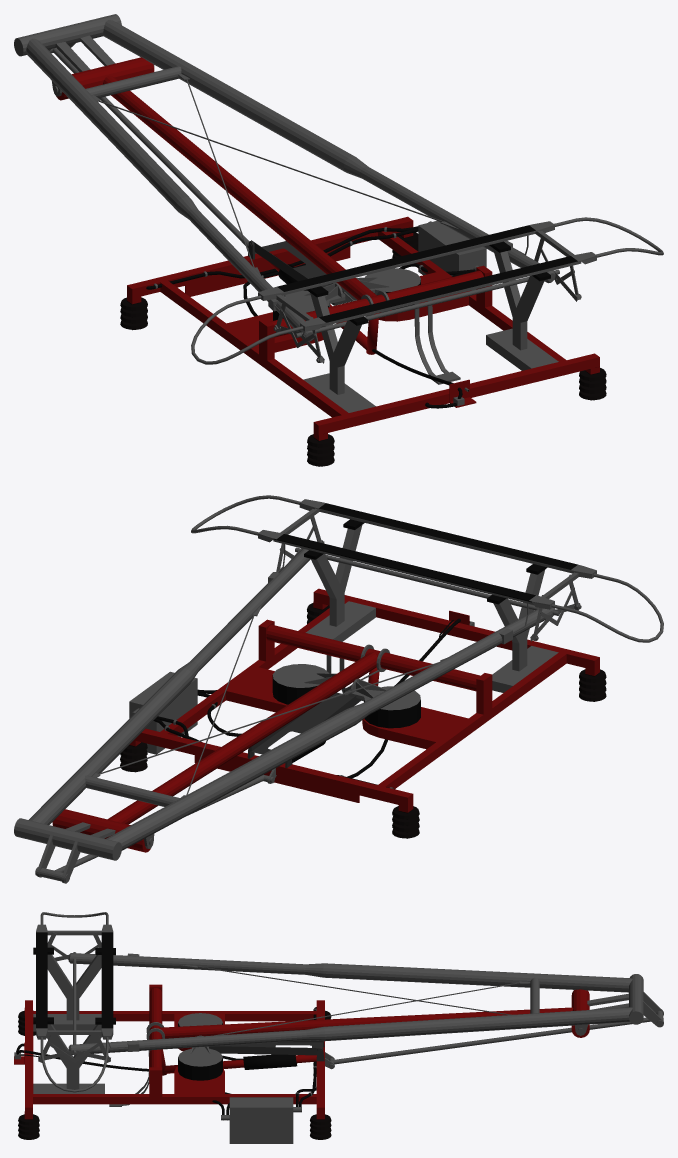
File: TSG18.obj
3 views of the same model, one above another, from view 1: azimuth 30°, elevation 25°; view 2: azimuth 150°, elevation 25°; view 3: azimuth 270°, elevation 25° (orthographic). The views are drawn at different scales.
Parts seen in each view (by area): view 1: 支臂2.001, new_Cube, 立方体.015, 碳滑板, 支臂2, 支撑, 柱体.006, 立方体.007, 弓头, 支臂2.002, 支臂2.003, 支臂1 (+8 smaller); view 2: 支臂2.001, new_Cube, 立方体.015, 碳滑板, 支臂2, 支撑, 柱体.006, 支臂1, 立方体, 立方体.007, 弓头, 支臂2.003 (+4 smaller); view 3: 支臂2.001, new_Cube, 立方体.015, 支臂2, 立方体.007, 碳滑板, 支撑, 柱体.006, 支臂2.002, 立方体, 柱体.002, 支臂1 (+5 smaller).
Part boxes in pixels (left/top/right/bottom): 支臂2.001: left=14, top=14, right=555, bottom=341; new_Cube: left=127, top=216, right=599, bottom=434; 立方体.015: left=303, top=241, right=558, bottom=412; 碳滑板: left=258, top=221, right=596, bottom=331; 支臂2: left=103, top=75, right=376, bottom=299; 支撑: left=273, top=231, right=581, bottom=363; 柱体.006: left=273, top=268, right=420, bottom=320; 立方体.007: left=418, top=221, right=486, bottom=290; 弓头: left=191, top=217, right=663, bottom=364; 支臂2.002: left=52, top=47, right=256, bottom=253; 支臂2.003: left=52, top=57, right=154, bottom=100; 支臂1: left=270, top=270, right=483, bottom=337; 支臂2.001: left=14, top=548, right=555, bottom=883; new_Cube: left=134, top=588, right=599, bottom=806; 立方体.015: left=304, top=519, right=558, bottom=692; 碳滑板: left=258, top=499, right=596, bottom=609; 支臂2: left=107, top=652, right=377, bottom=824; 支撑: left=273, top=508, right=581, bottom=641; 柱体.006: left=272, top=664, right=420, bottom=728; 支臂1: left=266, top=624, right=480, bottom=691; 立方体: left=250, top=692, right=362, bottom=754; 立方体.007: left=129, top=671, right=197, bottom=754; 弓头: left=191, top=495, right=663, bottom=642; 支臂2.003: left=52, top=809, right=154, bottom=852; 支臂2.001: left=68, top=953, right=663, bottom=1055; new_Cube: left=25, top=984, right=324, bottom=1114; 立方体.015: left=33, top=947, right=115, bottom=1093; 支臂2: left=158, top=1007, right=573, bottom=1038; 立方体.007: left=229, top=1097, right=293, bottom=1143; 碳滑板: left=36, top=924, right=113, bottom=1039; 支撑: left=38, top=930, right=110, bottom=1062; 柱体.006: left=178, top=1013, right=222, bottom=1080; 支臂2.002: left=332, top=1017, right=650, bottom=1064; 立方体: left=209, top=1040, right=323, bottom=1055; 柱体.002: left=162, top=1049, right=316, bottom=1075; 支臂1: left=149, top=988, right=162, bottom=1067.
Bounding box in the file's own units: 1.53 × 0.4279 × 2.38.
